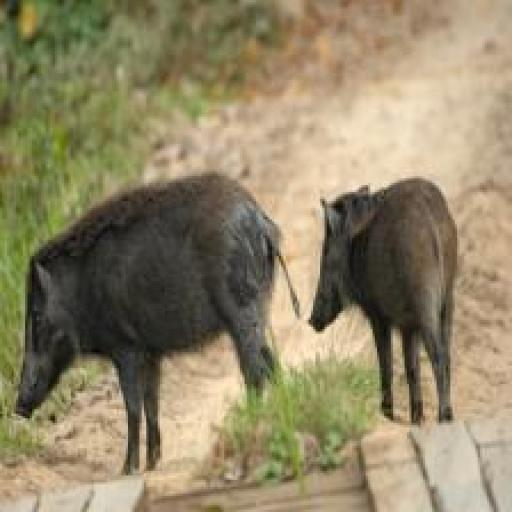Pig: (14, 164, 303, 468), (308, 180, 468, 423)
